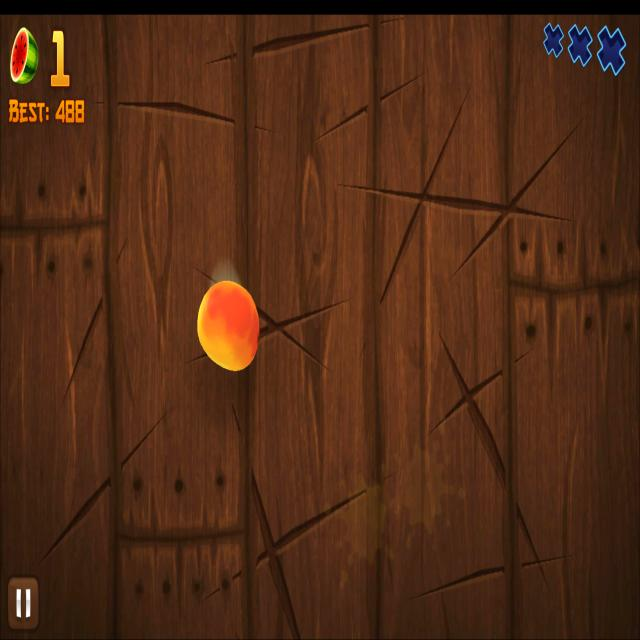fruit: (198, 280, 260, 371)
